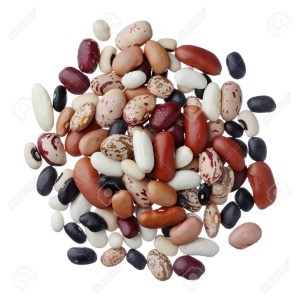beans_brain food: (73, 96, 227, 217)
